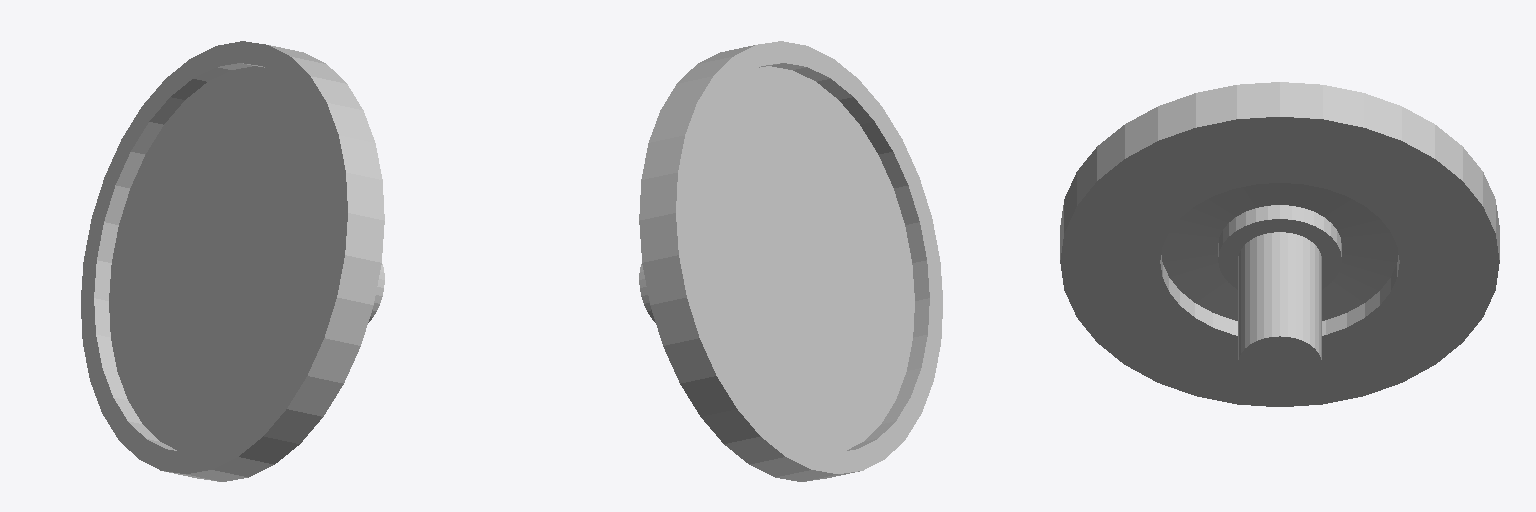
The model's file is volant.obj.
3 renders of one model, left to right at view 1: azimuth 30°, elevation 25°; view 2: azimuth 150°, elevation 25°; view 3: azimuth 270°, elevation 25°, orthographic.
Visible parts, largest first — view 1: volant_Circle; view 2: volant_Circle; view 3: volant_Circle.
Boxes of the visible parts, x1=… form: volant_Circle: x1=81, y1=41, x2=384, y2=481; volant_Circle: x1=639, y1=41, x2=942, y2=481; volant_Circle: x1=1060, y1=82, x2=1499, y2=406.
Size of the model in its own units: 2.03 by 3.14 by 3.27.